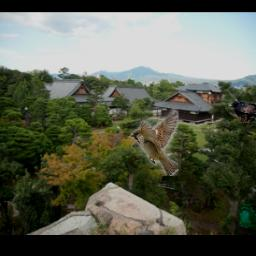Crow: (229, 102, 256, 124)
Sparrow: (131, 108, 180, 176)
